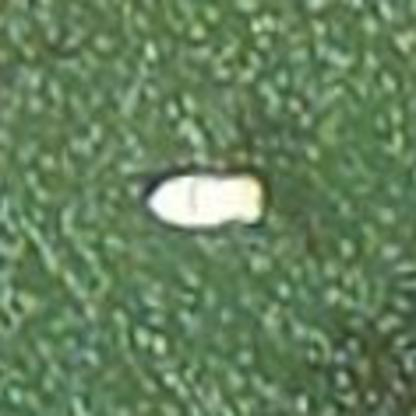ship: (130, 157, 296, 239)
